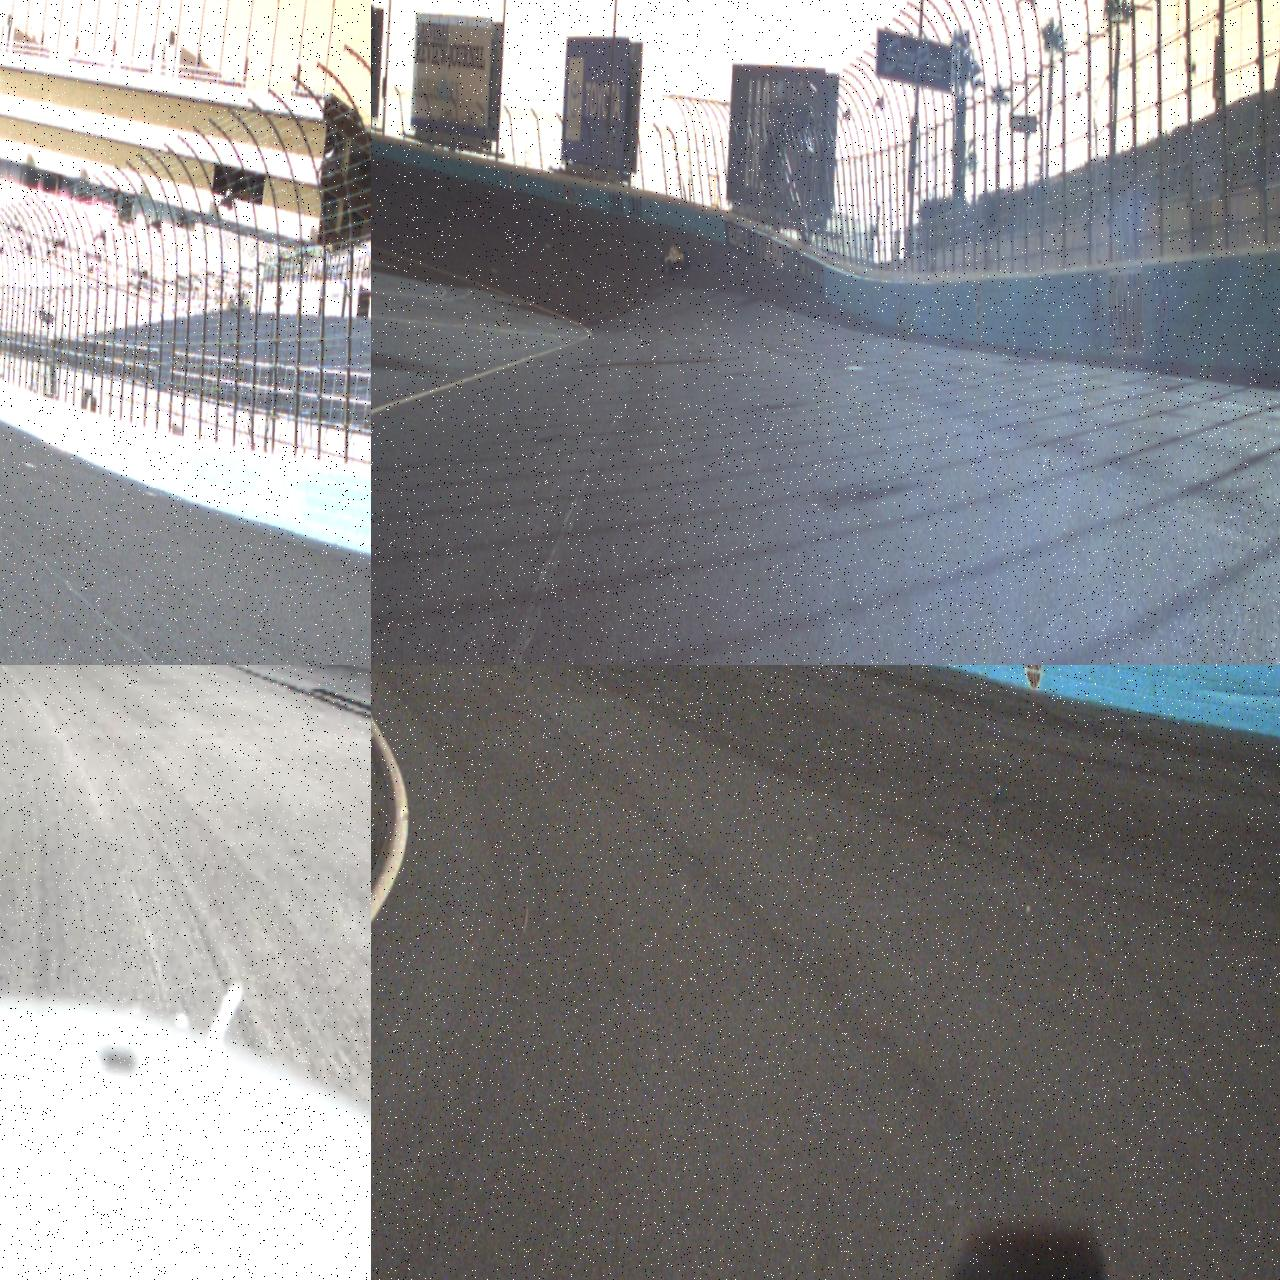AV: (659, 241, 690, 277)
Wheel: (667, 260, 672, 276), (661, 258, 666, 274), (685, 252, 689, 268)
